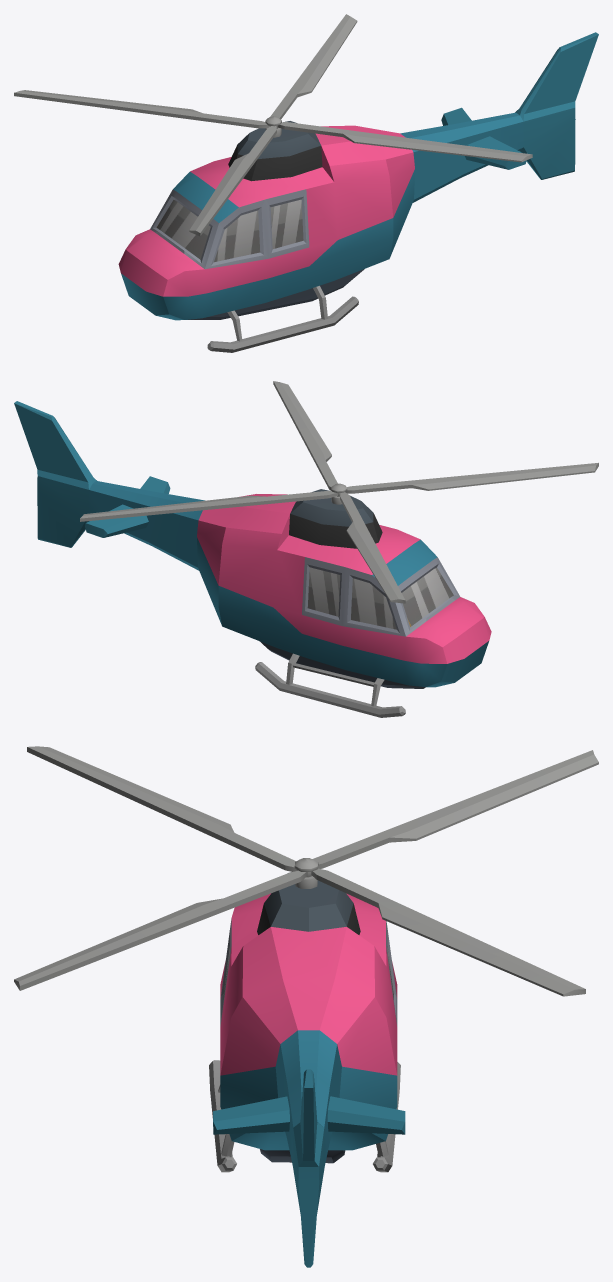
Rendered from Helicopter_2_E.fbx.
3 views of the same model, one above another, from view 1: azimuth 30°, elevation 25°; view 2: azimuth 150°, elevation 25°; view 3: azimuth 270°, elevation 25° (orthographic). The views are drawn at different scales.
Visible parts, largest first — view 1: Helicopter_2_E, Rotator_main; view 2: Helicopter_2_E, Rotator_main; view 3: Helicopter_2_E, Rotator_main.
Boxes of the visible parts, x1,y1,x2,y2 form: Helicopter_2_E: (118,32,598,352); Rotator_main: (14,14,532,236); Helicopter_2_E: (14,401,491,717); Rotator_main: (80,381,598,603); Helicopter_2_E: (209,880,405,1267); Rotator_main: (14,746,598,996).
Bounding box in the file's own units: 10.45 × 4.02 × 7.19.
